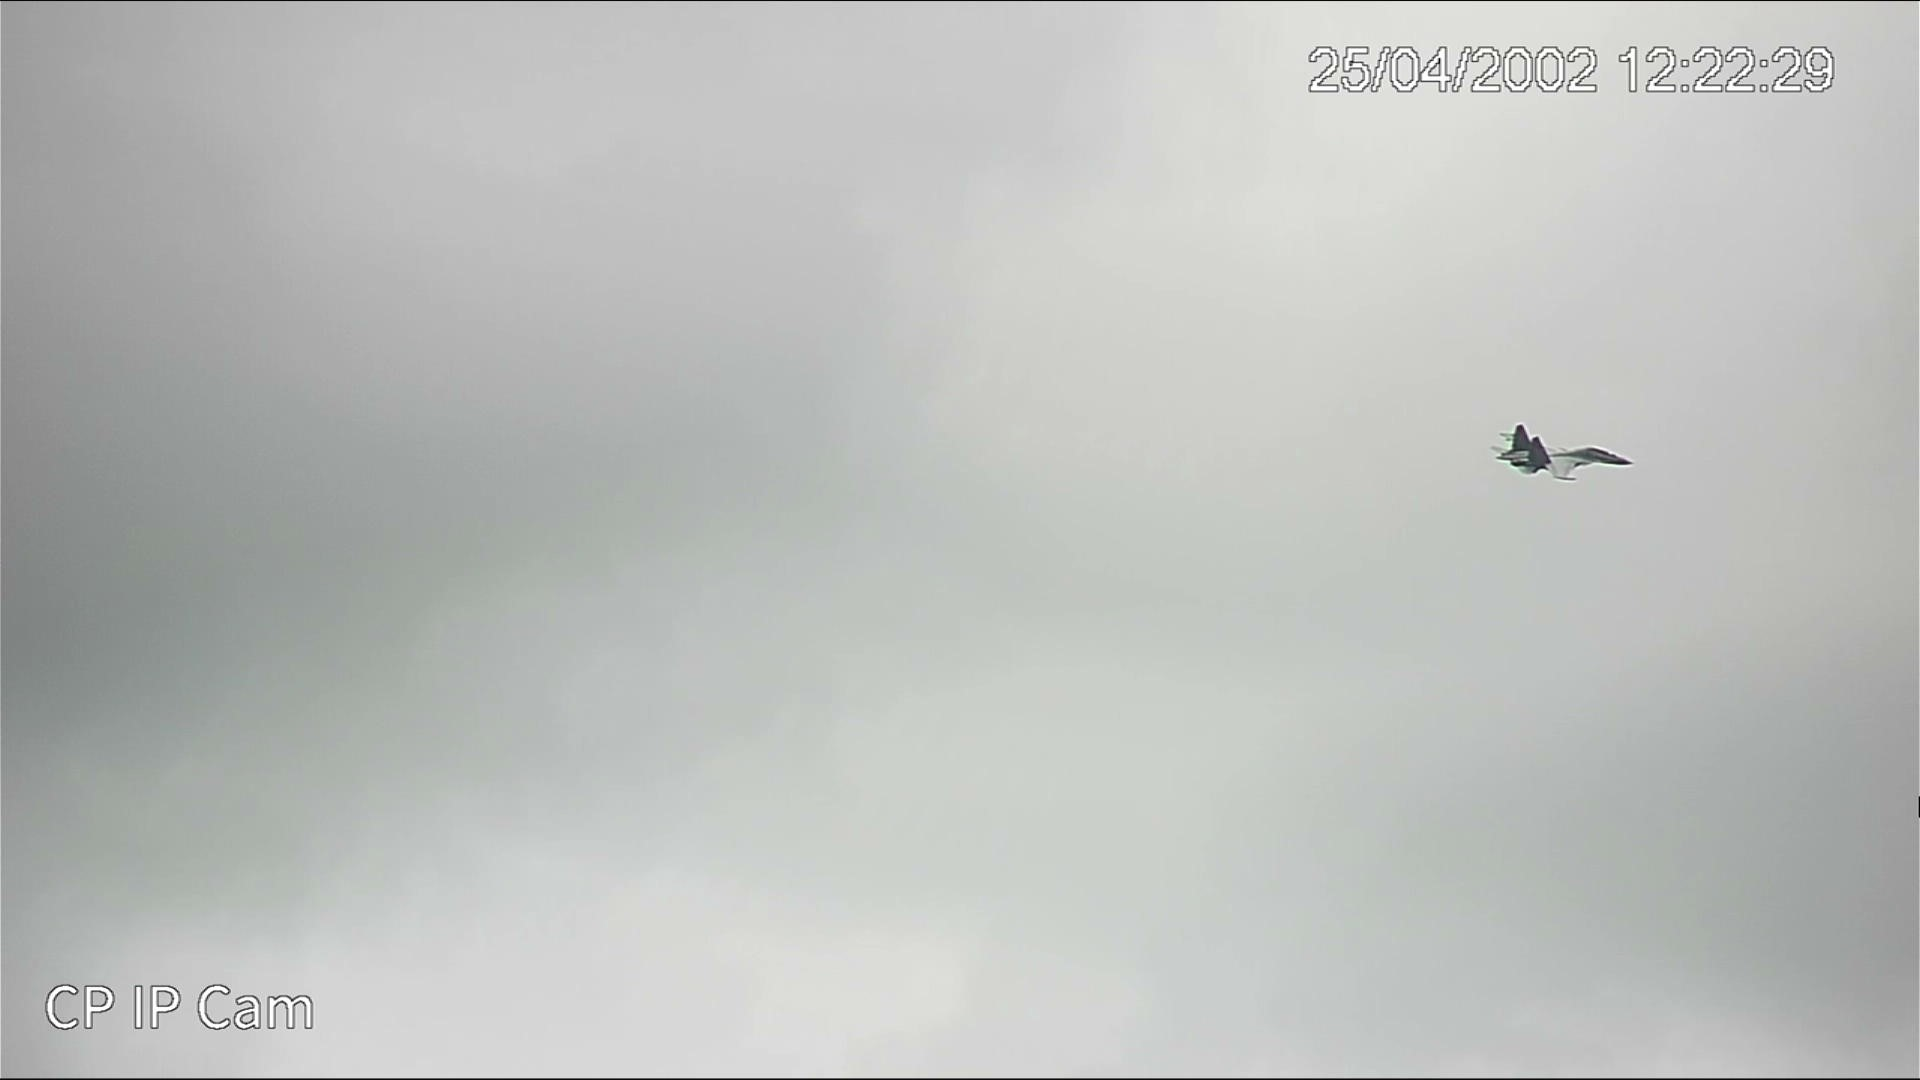SU_30: (1490, 426, 1635, 481)
